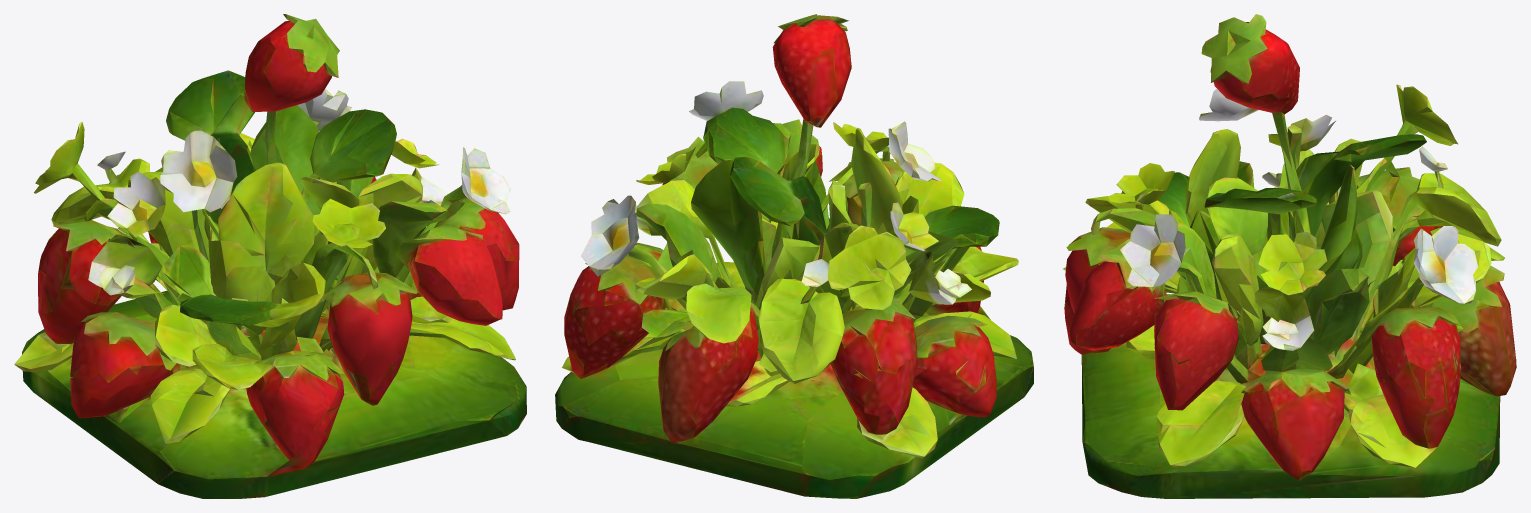
The model's file is strawberry_plant.glb.
The picture shows the model from 3 angles, left to right: view 1: azimuth 30°, elevation 25°; view 2: azimuth 150°, elevation 25°; view 3: azimuth 270°, elevation 25°; orthographic projection. The views are drawn at different scales.
Bounding box in the file's own units: 1 × 0.936 × 0.9642.
1 material, 1 textured.
